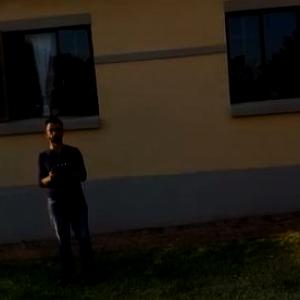follow: (36, 110, 104, 294)
